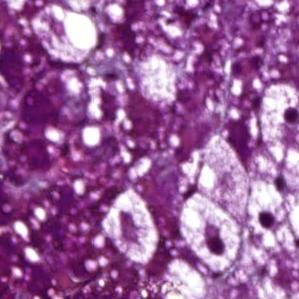ballooning: (179, 193, 242, 276), (254, 82, 299, 179)
